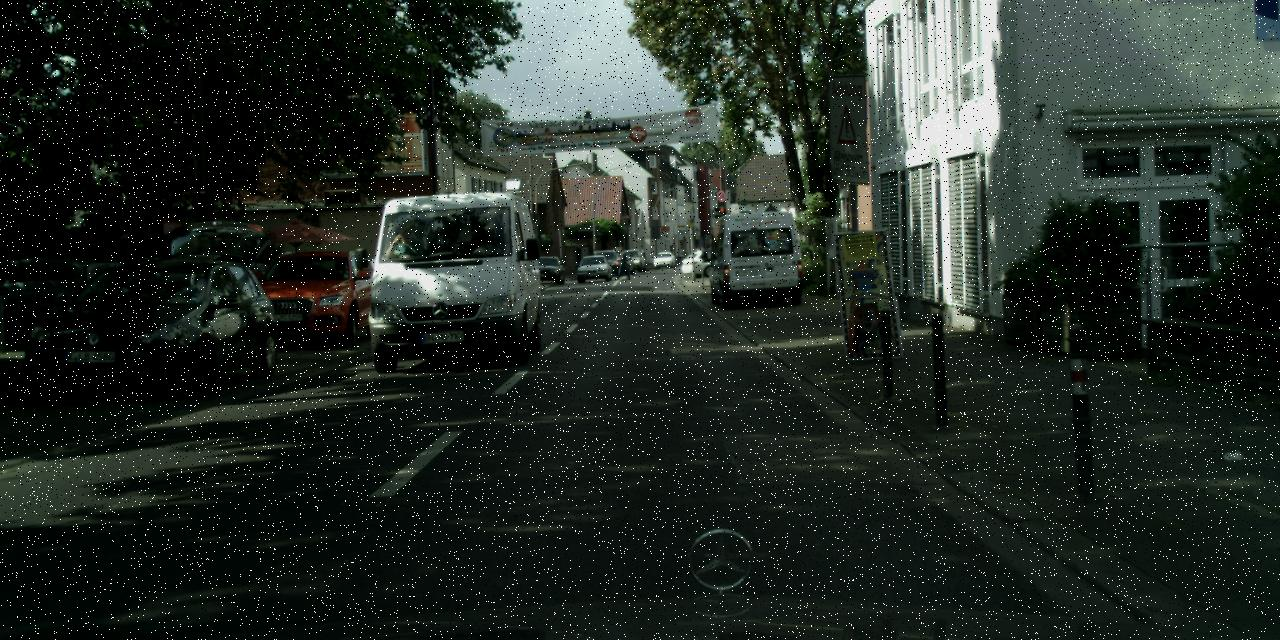ped: (616, 246, 628, 280)
